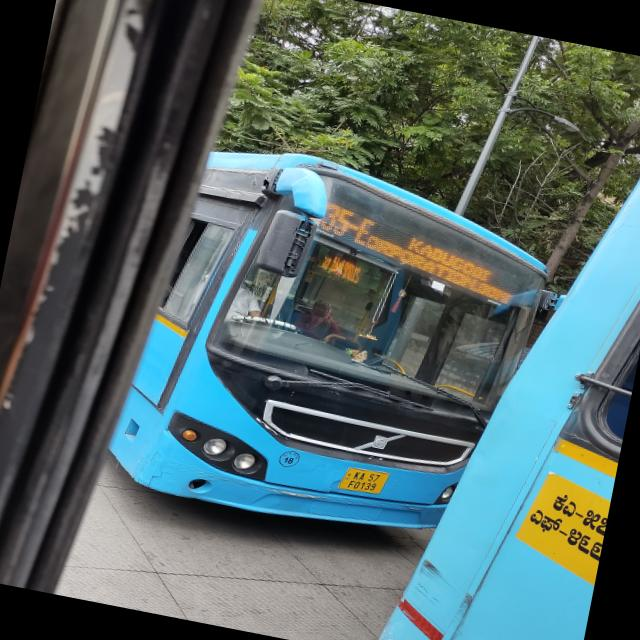bus: (105, 119, 586, 563)
display: (301, 200, 521, 304)
dnumber: (314, 202, 378, 250)
